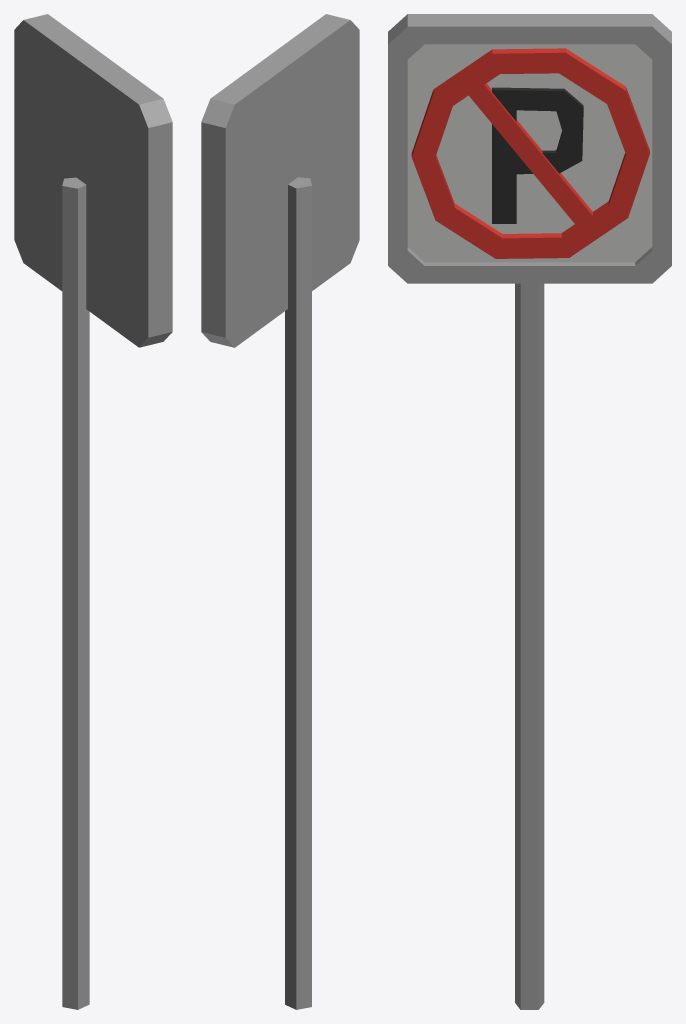
Rendered from Sign_NoParking.glb.
The picture shows the model from 3 angles, left to right: view 1: azimuth 30°, elevation 25°; view 2: azimuth 150°, elevation 25°; view 3: azimuth 270°, elevation 25°; orthographic projection. The views are drawn at different scales.
Parts seen in each view (by area): view 1: Sign_NoParking.obj; view 2: Sign_NoParking.obj; view 3: Sign_NoParking.obj.
Part boxes in pixels (x1,y1,x2,y2): Sign_NoParking.obj: [14, 14, 172, 1009]; Sign_NoParking.obj: [201, 14, 359, 1009]; Sign_NoParking.obj: [388, 14, 671, 1009].
Size of the model in its own units: 0.0269 by 0.5388 by 0.1394.
